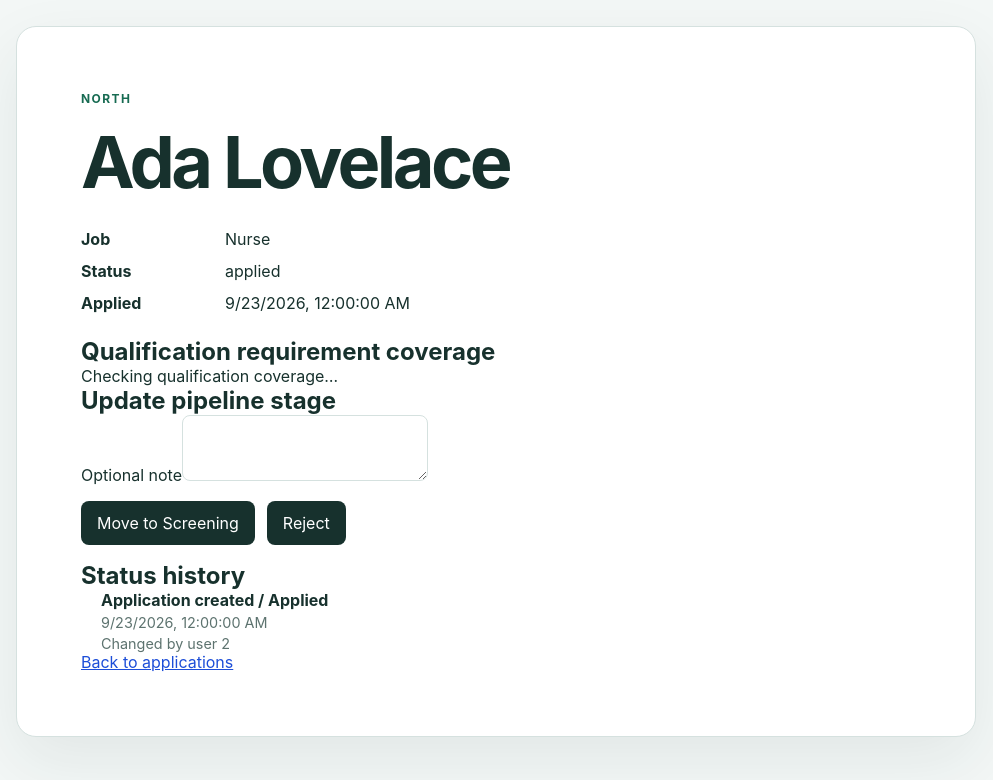
ApplicationDetail › shows a conflict and refetches authoritative application and history
Click the button "Move to Screening": (168, 522) [81,500,255,544]
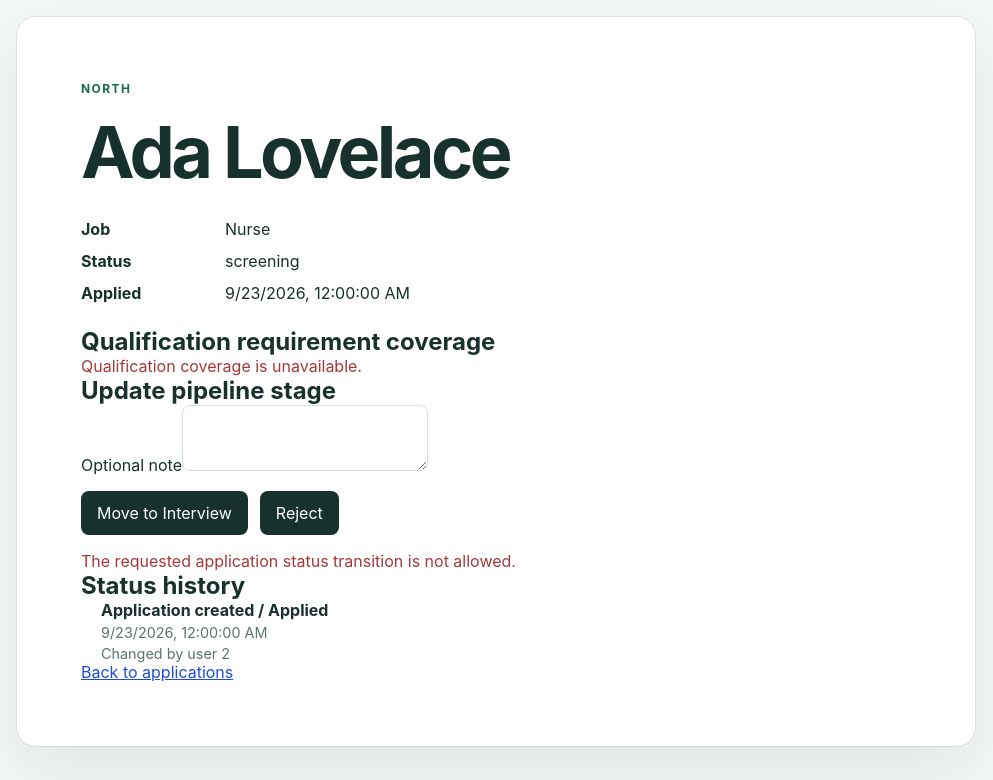
expect the text "The requested application status transition is not allowed." is shown: met, box [81,550,516,570]
expect the button "Move to Interview" is shown: met, box [81,490,248,534]
